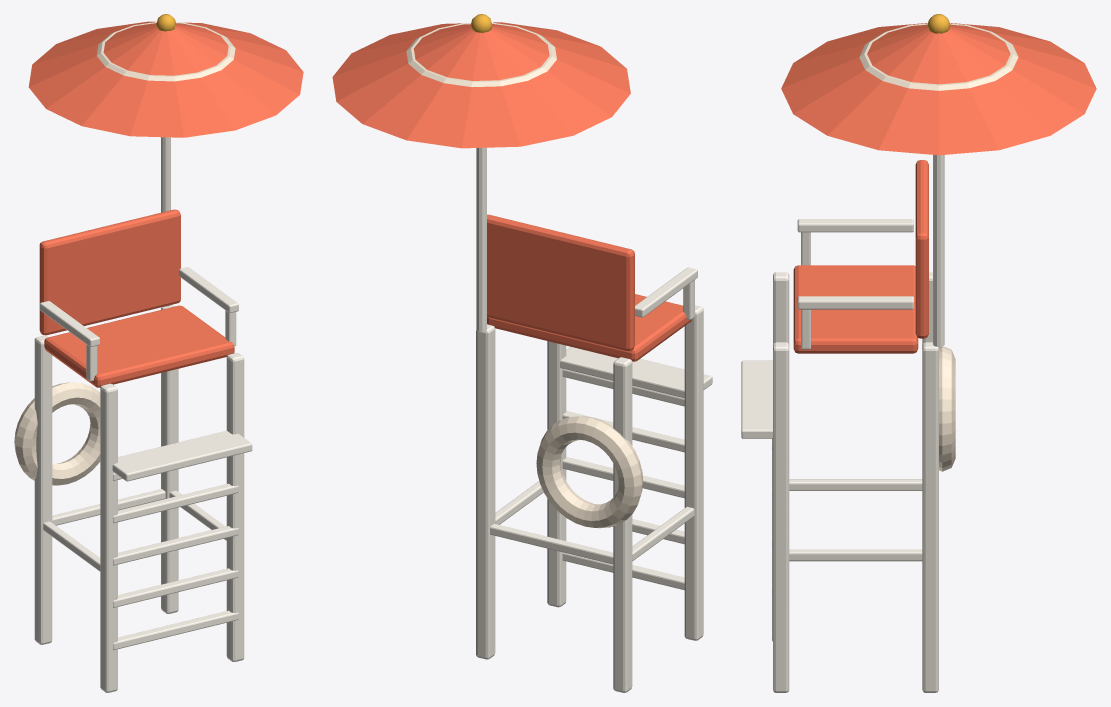
The model's file is lifeguard_chair.glb.
The picture shows the model from 3 angles, left to right: view 1: azimuth 30°, elevation 25°; view 2: azimuth 150°, elevation 25°; view 3: azimuth 270°, elevation 25°; orthographic projection. The views are drawn at different scales.
Visible parts, largest first — view 1: umbrella, back, seat, leg-11, leg-1-1, leg1-1, ring, foot, leg11, rung1, rung2, rung3 (+8 smaller); view 2: umbrella, back, ring, leg11, leg-1-1, leg-11, seat, leg1-1, foot, pole, umbBand, braceBack (+7 smaller); view 3: umbrella, seat, leg1-1, leg11, foot, back, pole, ring, umbBand, brace1, arm-1, arm1 (+2 smaller).
Part boxes in pixels (x1,y1,x2,y2): umbrella: (28, 21, 303, 137); back: (39, 209, 180, 335); seat: (44, 305, 234, 387); leg-11: (34, 335, 52, 644); leg-1-1: (100, 383, 117, 692); leg1-1: (226, 353, 244, 661); ring: (14, 382, 100, 485); foot: (112, 430, 252, 481); leg11: (161, 305, 178, 613); rung1: (113, 568, 238, 607); rung2: (113, 526, 238, 565); rung3: (113, 483, 238, 523); umbrella: (332, 22, 630, 148); back: (487, 214, 634, 351); ring: (536, 416, 643, 528); leg11: (476, 324, 495, 659); leg-1-1: (684, 305, 703, 640); leg-11: (613, 357, 632, 692); seat: (487, 294, 692, 361); leg1-1: (547, 341, 566, 607); foot: (560, 347, 712, 398); pole: (476, 147, 486, 331); umbBand: (406, 22, 556, 86); braceBack: (490, 523, 613, 564); umbrella: (781, 23, 1096, 155); seat: (793, 265, 918, 353); leg1-1: (773, 342, 789, 692); leg11: (922, 342, 938, 692); foot: (741, 360, 772, 438); back: (915, 160, 928, 338); pole: (933, 155, 944, 346); ring: (939, 346, 955, 471); umbBand: (859, 23, 1018, 90); brace1: (789, 549, 922, 561); arm-1: (797, 219, 913, 232); arm1: (797, 296, 913, 309).
Bounding box in the file's own units: 2.13 × 4.49 × 2.14.
